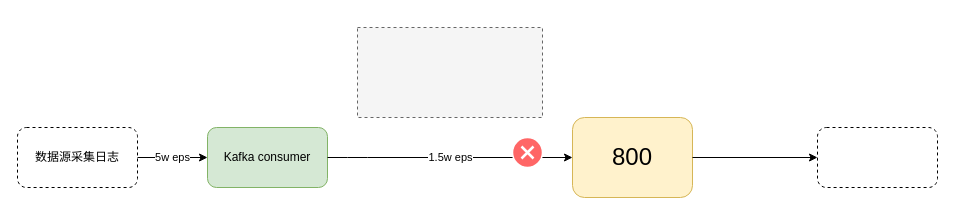
This 955x215 diagram has some shape labels left out. Each missing label, with the box of its shape:
告警数据: (816, 126, 938, 188)
阻塞点 因引擎处理能力不足，形成反压，最终导致Kafka Lag，进而丢失数据，部分记录无法处理: (356, 26, 542, 118)
